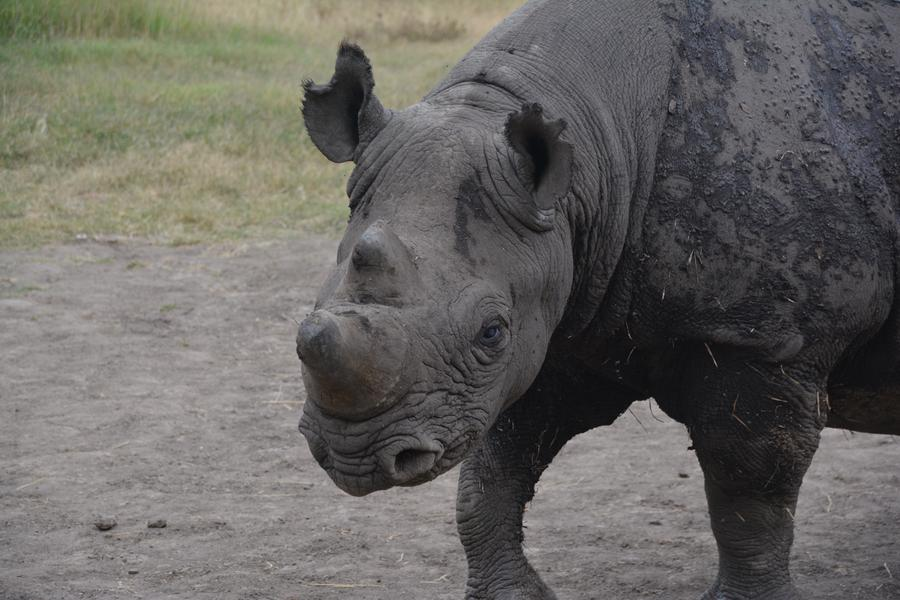rhino: (284, 34, 874, 555)
